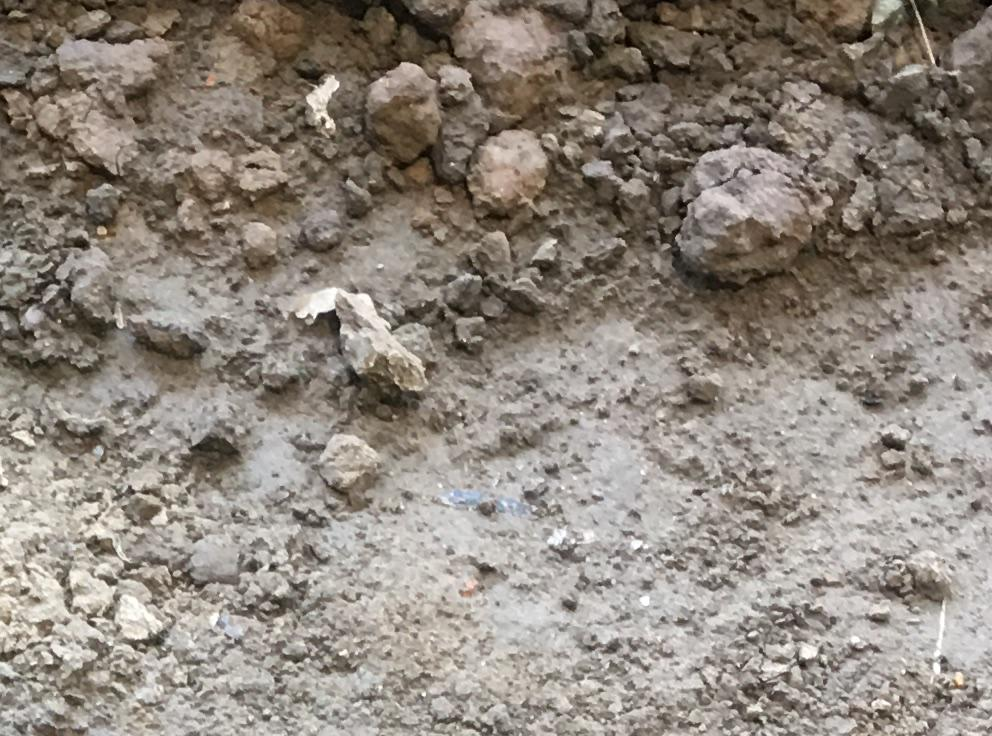block: (679, 144, 818, 282), (358, 58, 440, 164)
